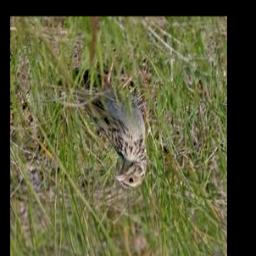Sparrow: (54, 51, 148, 193)
